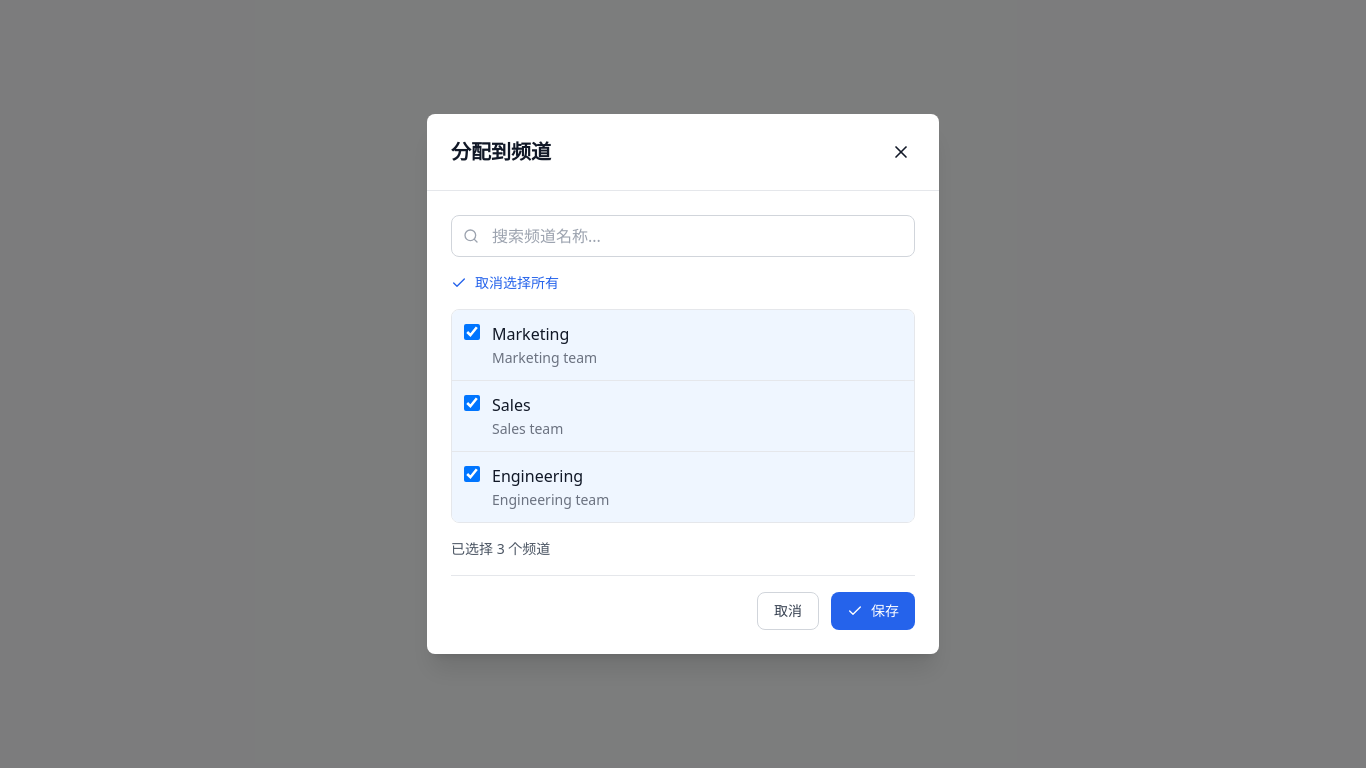
Test: ChannelAssignModal › Channel Selection › 「取消选择所有」で全チャンネルの選択を解除できる
Step 1. Click the button "取消选择所有" → (505, 283), box [451, 273, 559, 293]
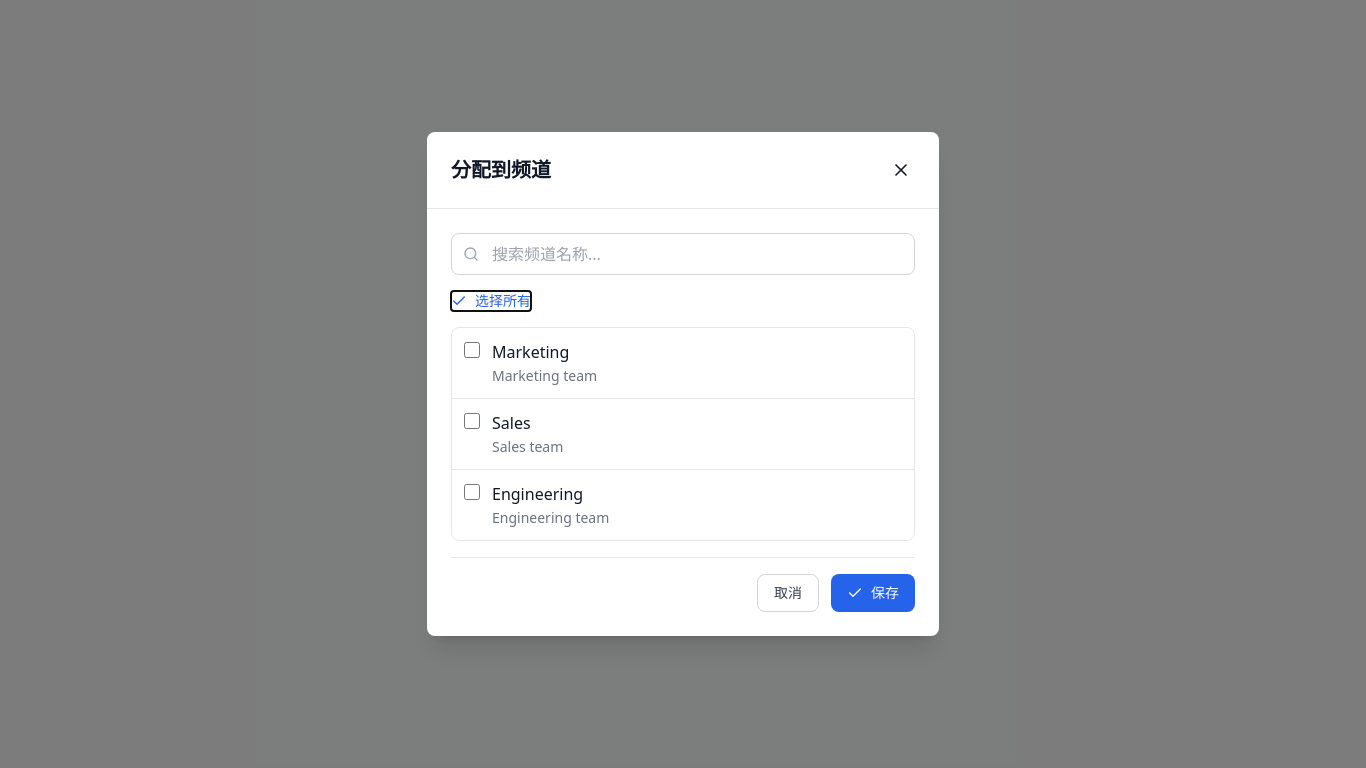
Now the checkbox labelled "Marketing Marketing team" is not checked, box [464, 342, 480, 358]
Now the checkbox labelled "Sales Sales team" is not checked, box [464, 413, 480, 429]
Now the checkbox labelled "Engineering Engineering team" is not checked, box [464, 484, 480, 500]
